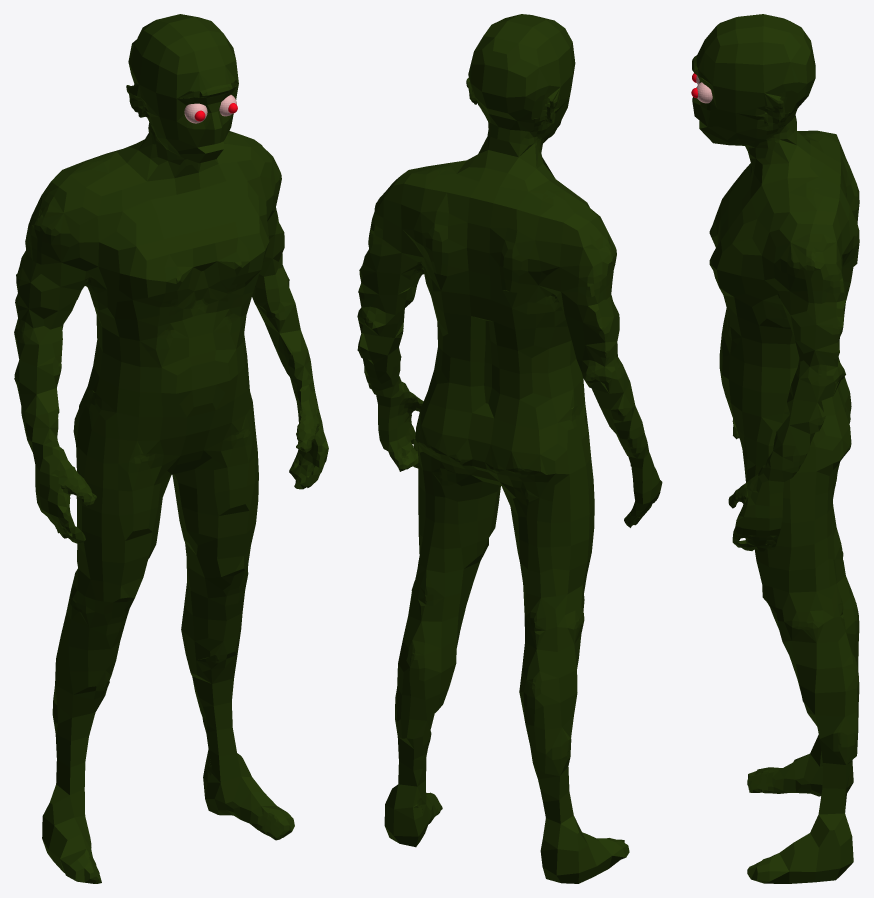
The model's file is zombiee.fbx.
3 views of the same model, side by side, from view 1: azimuth 30°, elevation 25°; view 2: azimuth 150°, elevation 25°; view 3: azimuth 270°, elevation 25° (orthographic). The views are drawn at different scales.
Visible parts, largest first — view 1: Sphere.002; view 2: Sphere.002; view 3: Sphere.002.
Boxes of the visible parts, left/top/right/bottom form: Sphere.002: left=14, top=14, right=328, bottom=883; Sphere.002: left=357, top=14, right=662, bottom=883; Sphere.002: left=691, top=14, right=859, bottom=883.
Size of the model in its own units: 217 by 616 by 115.
